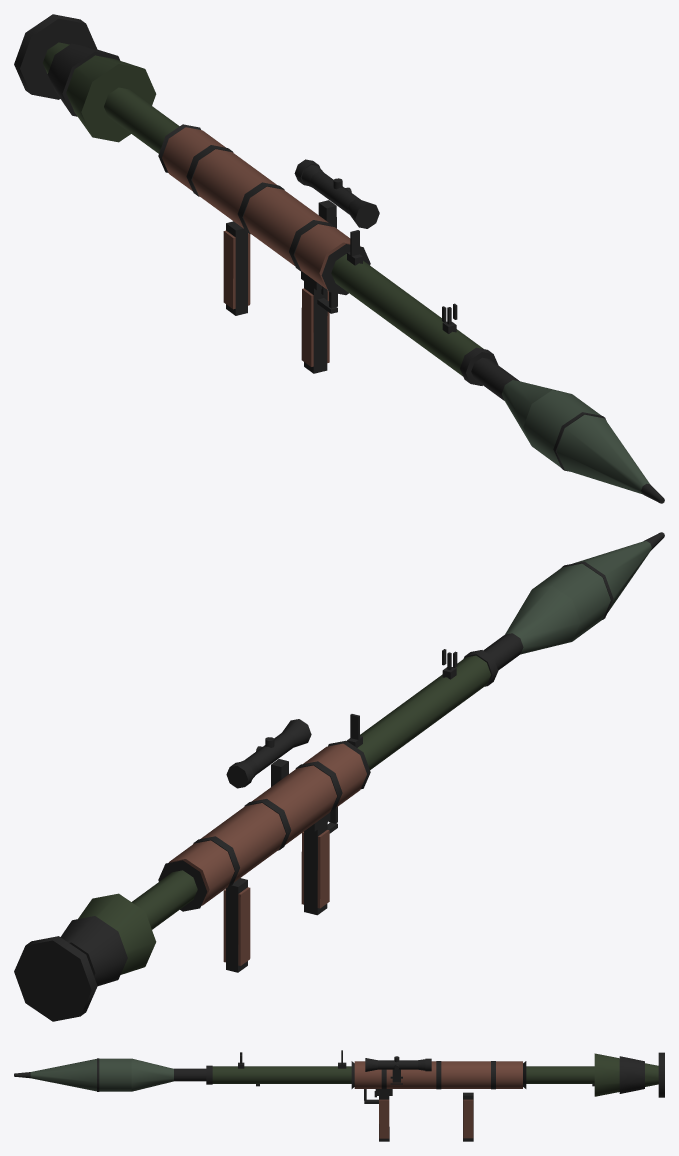
Rendered from rpg7.glb.
3 views of the same model, one above another, from view 1: azimuth 30°, elevation 25°; view 2: azimuth 150°, elevation 25°; view 3: azimuth 270°, elevation 25° (orthographic). The views are drawn at different scales.
Visible parts, largest first — view 1: Mesh_WoodShield, Mesh_FrontTube, Mesh_BlastCone, Mesh_RocketNose, Mesh_ConeEndRing, Mesh_RocketBody, Mesh_RearTube, Mesh_ConeRubber, Mesh_RearGripFrame, Mesh_GripFrame, Mesh_RocketTransition, Mesh_RocketShaft (+4 smaller); view 2: Mesh_WoodShield, Mesh_ConeEndRing, Mesh_FrontTube, Mesh_RocketTransition, Mesh_BlastCone, Mesh_ConeRubber, Mesh_RocketBody, Mesh_RearTube, Mesh_RocketNose, Mesh_GripFrame, Mesh_RearGripFrame, Mesh_RearGripWoodR (+4 smaller); view 3: Mesh_WoodShield, Mesh_FrontTube, Mesh_RocketNose, Mesh_BlastCone, Mesh_RearTube, Mesh_RocketBody, Mesh_RocketTransition, Mesh_ConeRubber, Mesh_RocketShaft, Mesh_GripWoodL, Mesh_RearGripWoodL, Mesh_ScopeMainTube (+3 smaller).
Part boxes in pixels (x1,y1,x2,y2): Mesh_WoodShield: (162, 127, 360, 289); Mesh_FrontTube: (331, 254, 483, 376); Mesh_BlastCone: (43, 42, 156, 142); Mesh_RocketNose: (556, 414, 649, 494); Mesh_ConeEndRing: (14, 14, 97, 99); Mesh_RocketBody: (523, 390, 601, 467); Mesh_RearTube: (104, 87, 179, 153); Mesh_ConeRubber: (47, 43, 120, 116); Mesh_RearGripFrame: (226, 221, 247, 315); Mesh_GripFrame: (304, 281, 327, 373); Mesh_RocketTransition: (502, 380, 569, 445); Mesh_RocketShaft: (471, 357, 519, 400); Mesh_WoodShield: (168, 743, 366, 905); Mesh_ConeEndRing: (14, 936, 97, 1021); Mesh_FrontTube: (357, 655, 490, 769); Mesh_RocketTransition: (505, 586, 580, 654); Mesh_BlastCone: (78, 893, 156, 974); Mesh_ConeRubber: (60, 916, 127, 985); Mesh_RocketBody: (532, 563, 610, 641); Mesh_RearTube: (132, 870, 197, 929); Mesh_RocketNose: (573, 541, 651, 613); Mesh_GripFrame: (304, 822, 327, 915); Mesh_RearGripFrame: (226, 878, 247, 972); Mesh_RearGripWoodR: (238, 887, 250, 965); Mesh_WoodShield: (354, 1061, 522, 1088); Mesh_FrontTube: (212, 1066, 351, 1083); Mesh_RocketNose: (30, 1059, 96, 1091); Mesh_BlastCone: (594, 1053, 658, 1096); Mesh_RearTube: (526, 1066, 594, 1083); Mesh_RocketBody: (99, 1058, 131, 1091); Mesh_RocketTransition: (131, 1058, 173, 1091); Mesh_ConeRubber: (619, 1056, 644, 1093); Mesh_RocketShaft: (174, 1068, 206, 1081); Mesh_GripWoodL: (379, 1099, 389, 1138); Mesh_RearGripWoodL: (463, 1099, 473, 1138); Mesh_ScopeMainTube: (378, 1060, 417, 1069).
Bounding box in the file's own units: 0.125 × 0.24 × 1.55.
